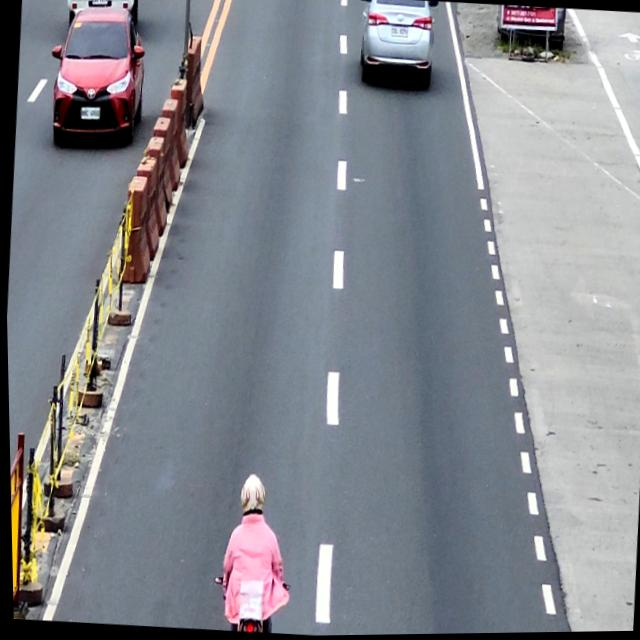Car: (44, 4, 150, 152), (351, 0, 440, 93), (64, 0, 139, 34)
License-Plate: (79, 106, 99, 122), (390, 27, 409, 39), (90, 0, 107, 6)
